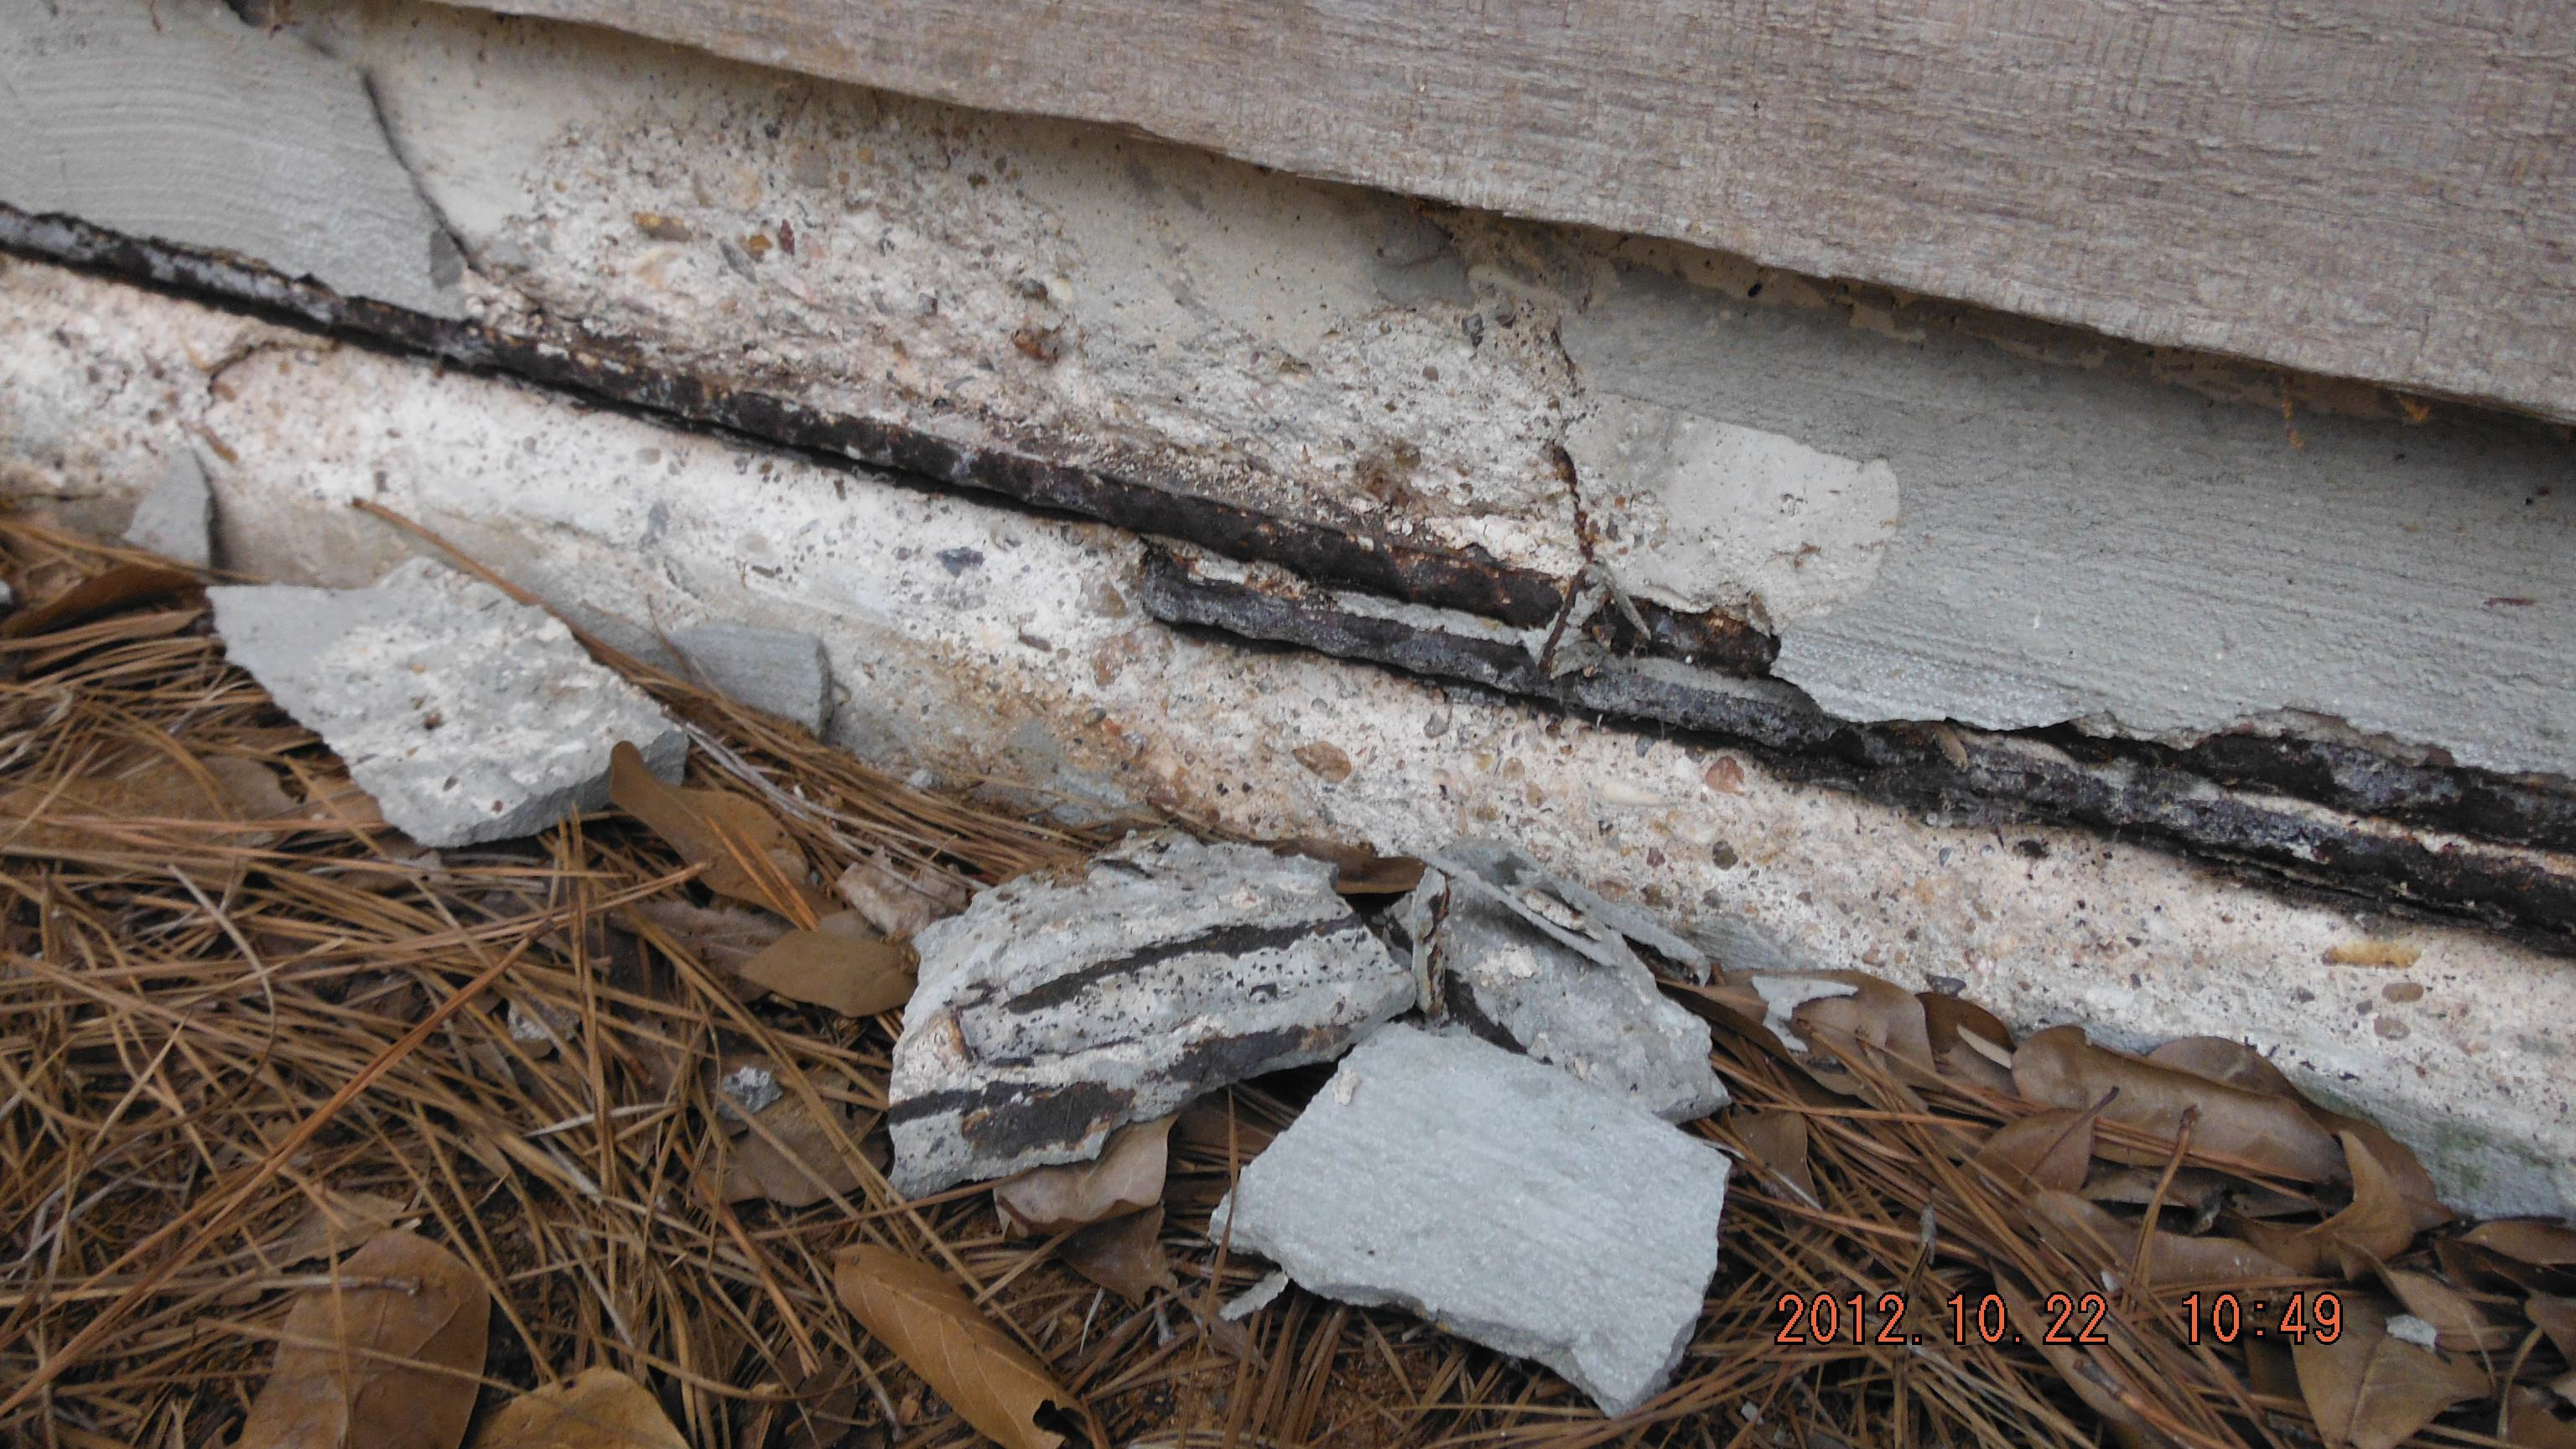Exposed reinforcement: (0, 200, 1782, 681), (1123, 556, 2576, 966), (1997, 720, 2576, 856)
Spalling: (0, 0, 2576, 1159)
